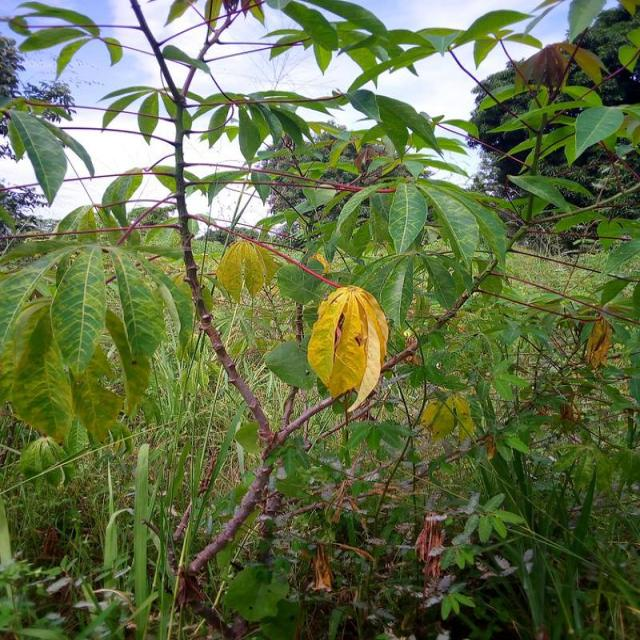cassava leaf: (306, 284, 388, 414), (215, 237, 275, 303)
